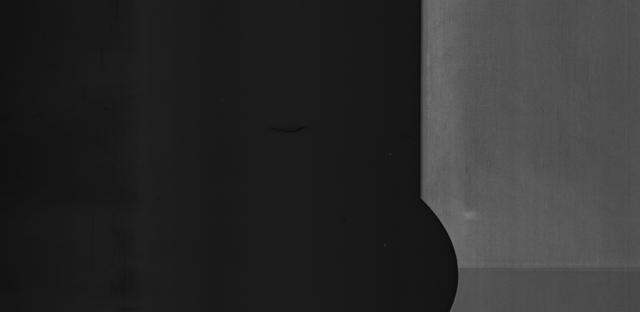crescent_gap: (408, 189, 468, 312)
welding_line: (449, 261, 640, 277)
